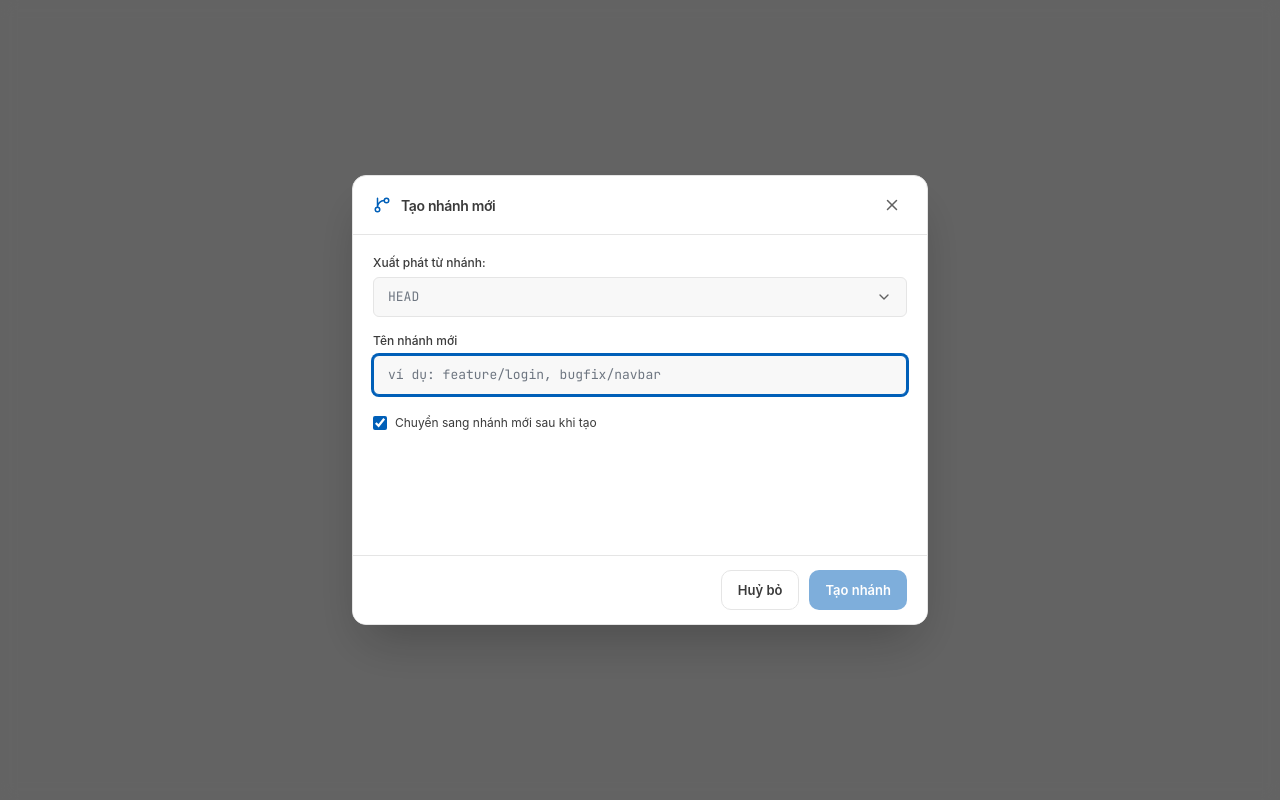
Test: CreateBranchModal › renders base branch selector with local and remote branches and defaults to current branch
The image size is (1280, 800).
Click the dropdown named "Xuất phát từ nhánh".
click(404, 296)  # box [373,277,907,317]
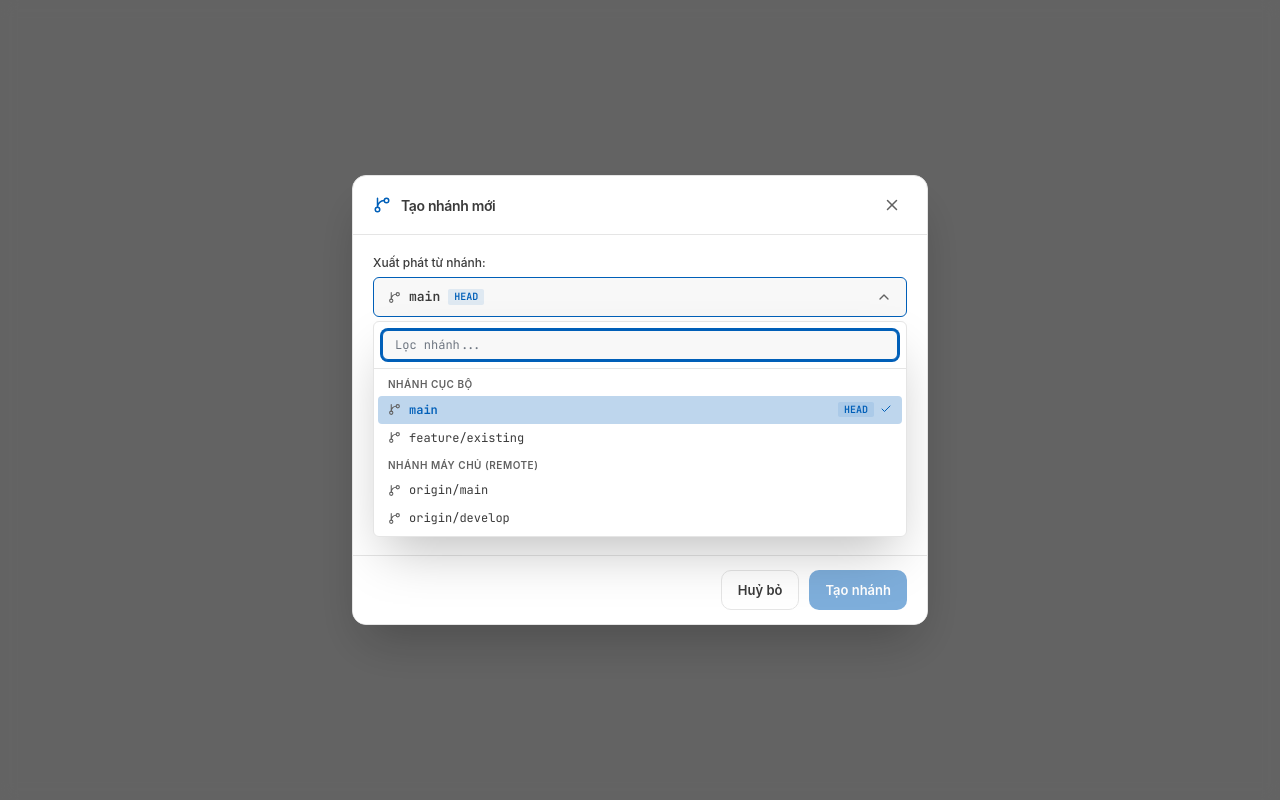
Expected: the option "feature/existing" is shown, [388,430,524,446]
Expected: the option "origin/develop" is shown, [388,510,510,526]
